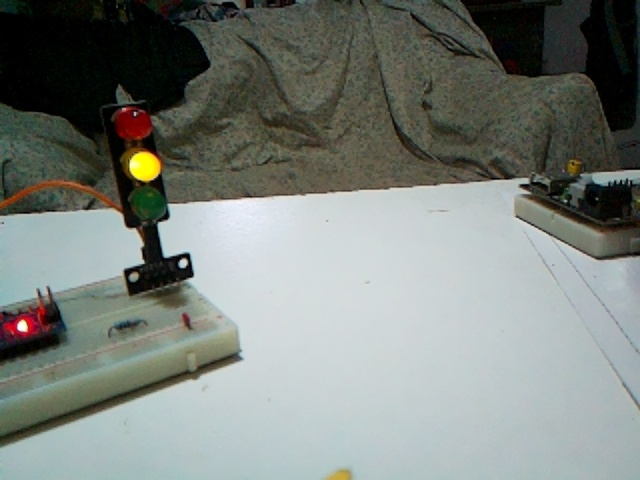traffic_light_yellow: (101, 101, 193, 294)
